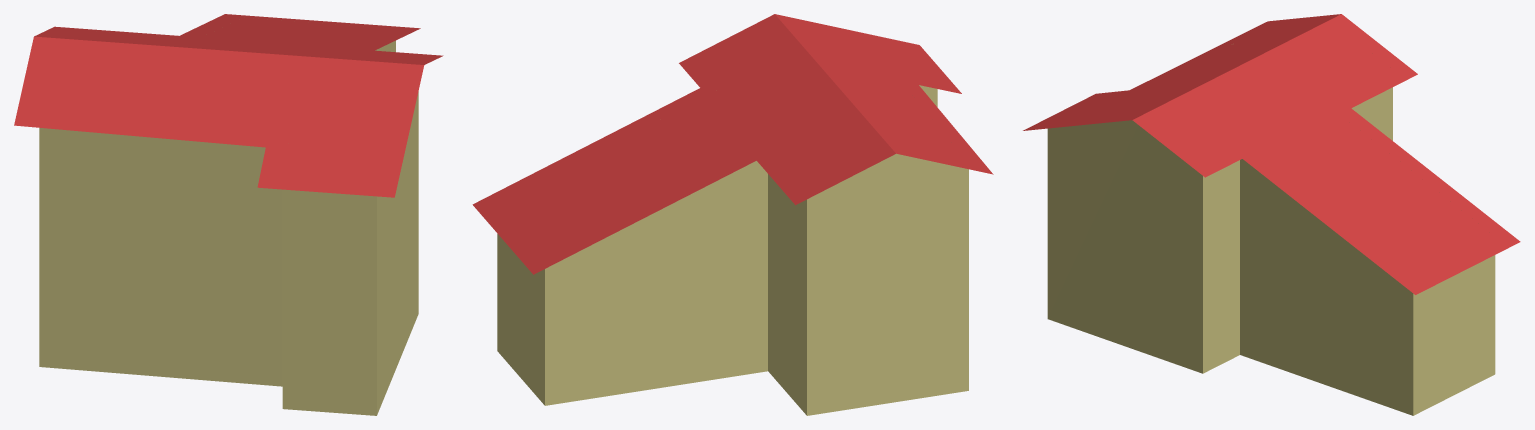
3 renders of one model, left to right at view 1: azimuth 30°, elevation 25°; view 2: azimuth 150°, elevation 25°; view 3: azimuth 270°, elevation 25°, orthographic. The views are drawn at different scales.
Visible parts, largest first — view 1: group_5, group_3, group_4; view 2: group_5, group_3, group_4; view 3: group_5, group_3, group_4.
Part boxes in pixels (x1,y1,x2,y2): group_5: (39,40,418,415); group_3: (14,17,443,197); group_4: (14,14,423,197); group_5: (497,85,968,415); group_3: (497,14,993,257); group_4: (472,14,992,274); group_5: (1047,87,1495,415); group_3: (1023,14,1494,282); group_4: (1023,14,1520,294).
Size of the model in its own units: 19.63 by 20.68 by 10.92.
